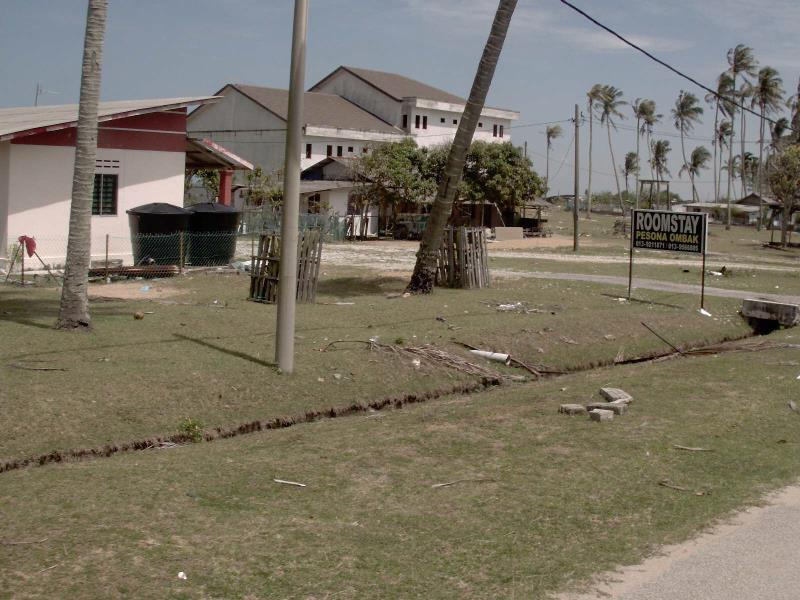ads_sign: (621, 203, 719, 257)
